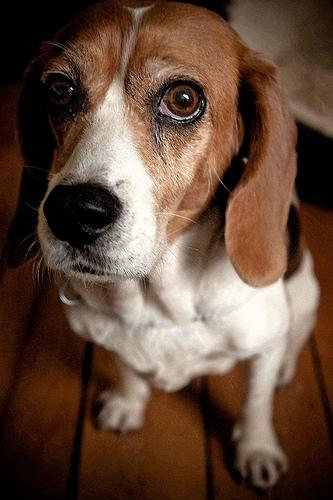dog-beagle: (2, 0, 296, 288)
